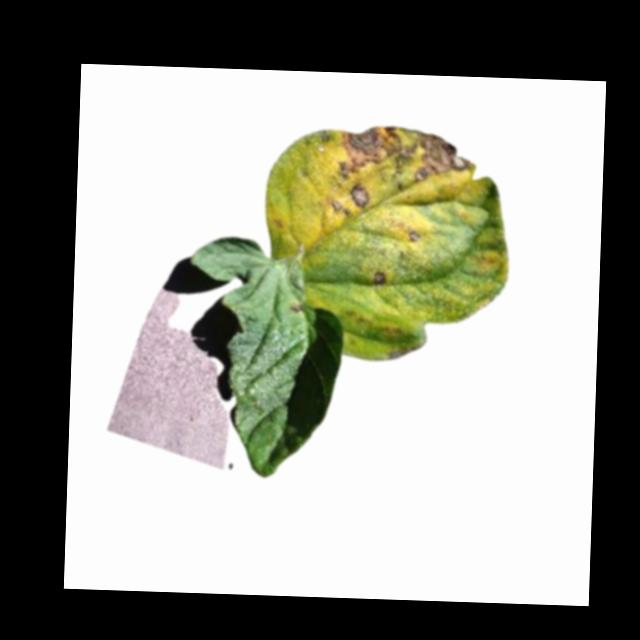Early_blight: (333, 122, 474, 184), (329, 198, 353, 217), (350, 180, 368, 201), (371, 269, 385, 284), (289, 301, 303, 314), (409, 227, 420, 240)
